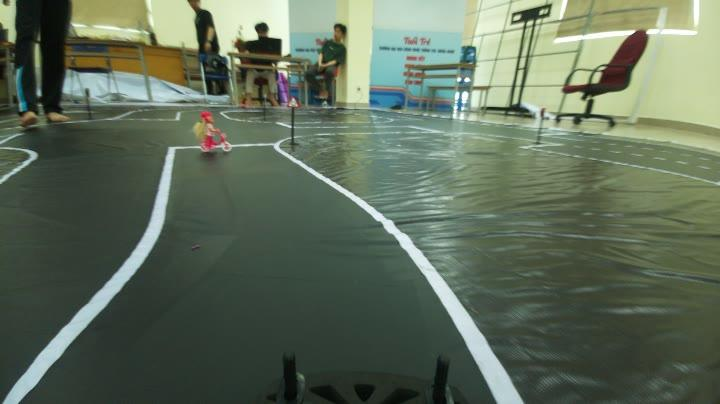pedestrian: (188, 108, 237, 160)
